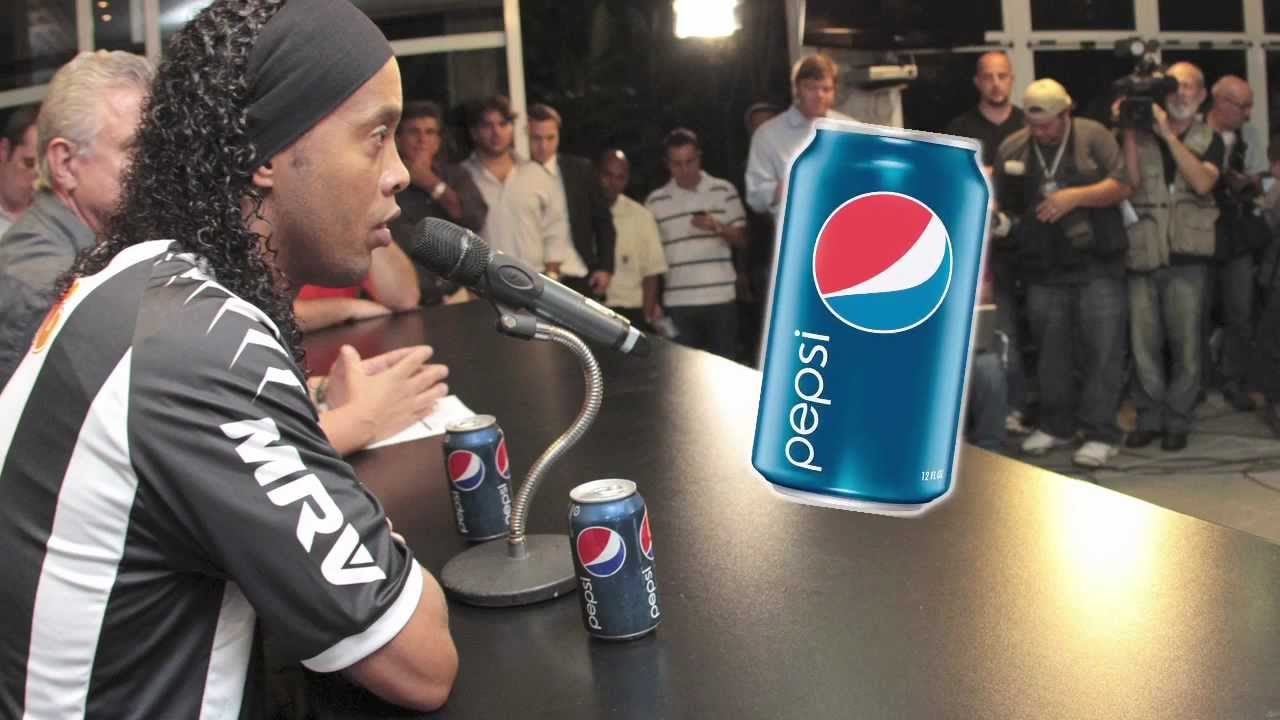pepsi: (811, 184, 952, 334), (815, 184, 952, 334), (572, 522, 625, 578), (446, 444, 485, 490)
